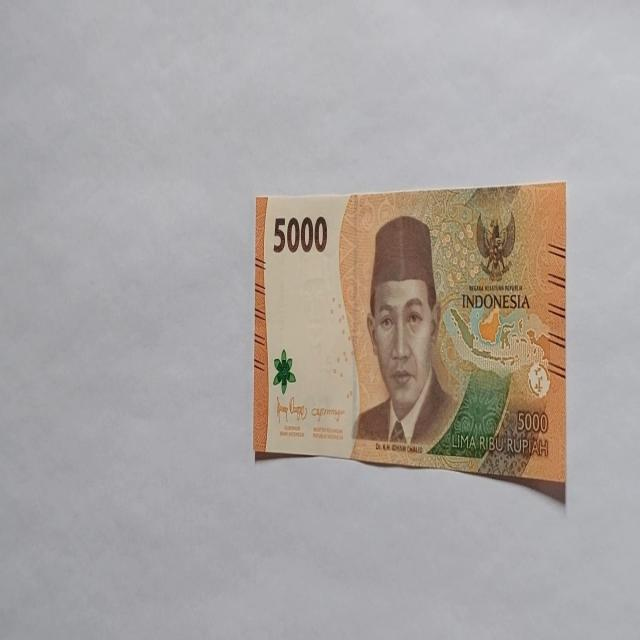lima ribu rupiah: (253, 182, 567, 498), (350, 213, 460, 452)
